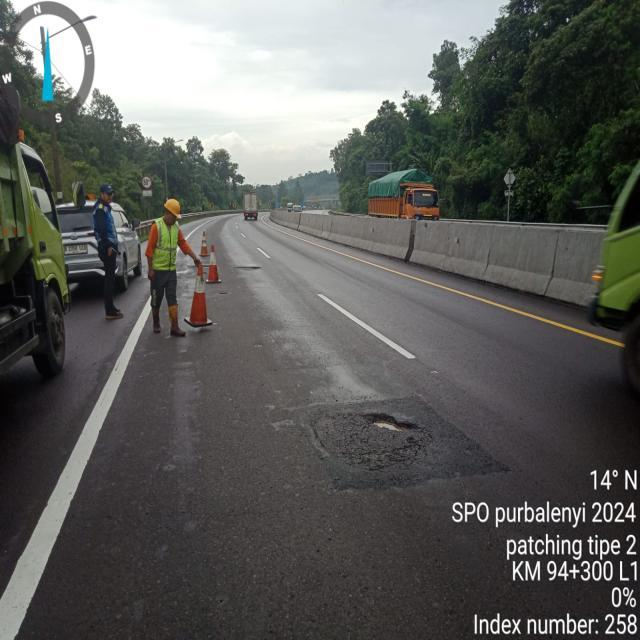Buraco: (360, 411, 426, 435), (233, 266, 262, 272), (216, 290, 230, 296)
